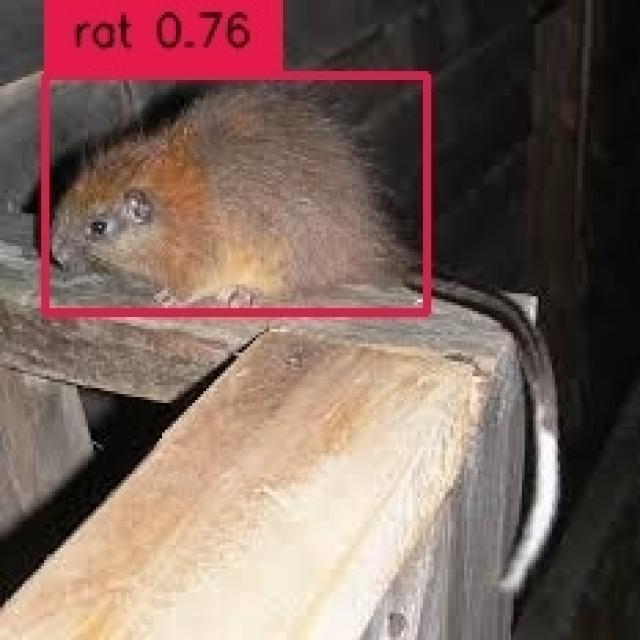rat: (41, 71, 423, 308)
